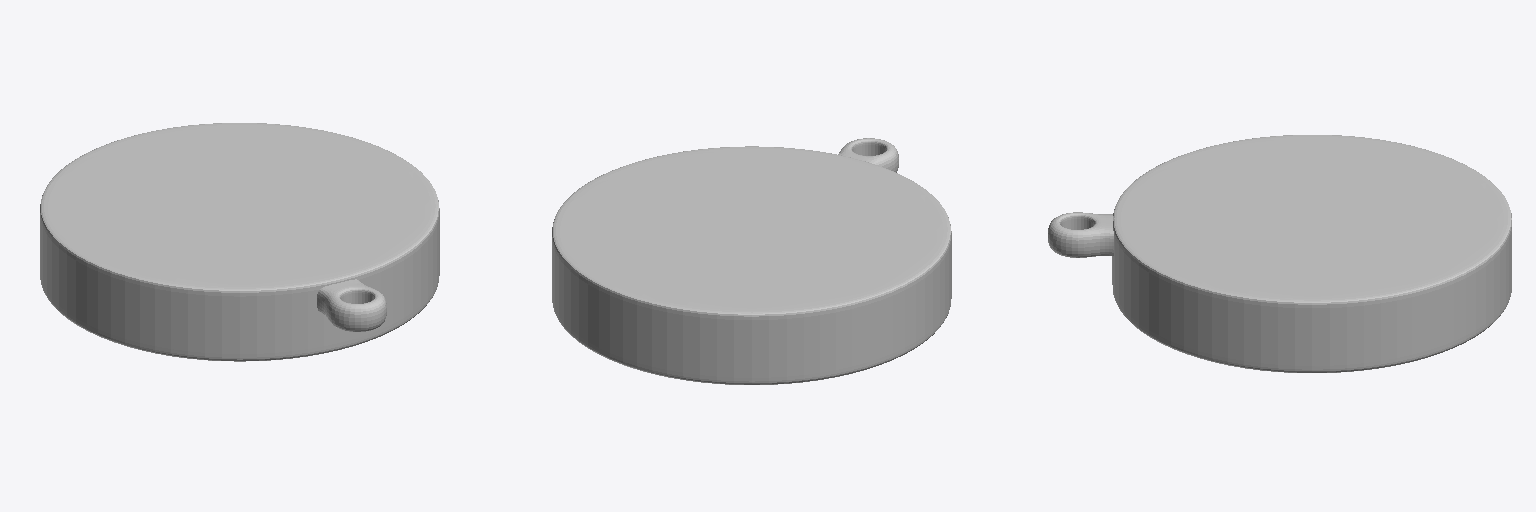
File: medal.obj
3 views of the same model, side by side, from view 1: azimuth 30°, elevation 25°; view 2: azimuth 150°, elevation 25°; view 3: azimuth 270°, elevation 25° (orthographic).
Parts seen in each view (by area): view 1: medal; view 2: medal; view 3: medal.
Part boxes in pixels (x1,y1,x2,y2): medal: (40, 123, 439, 361); medal: (552, 138, 951, 384); medal: (1048, 135, 1511, 372).
Bounding box in the file's own units: 4.91 × 1.04 × 5.7.